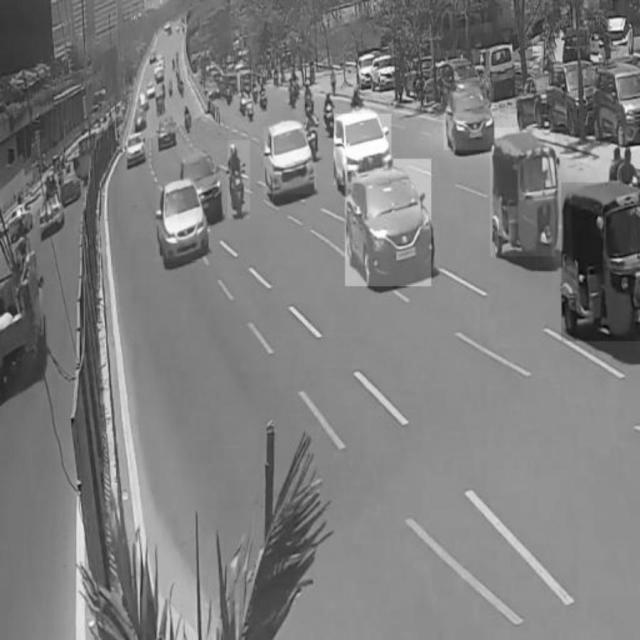vehicle: (562, 182, 640, 340), (346, 160, 432, 288), (491, 128, 555, 256), (157, 182, 211, 262), (335, 114, 392, 185), (264, 127, 316, 194), (444, 83, 494, 150), (178, 151, 223, 223), (228, 140, 250, 218)
